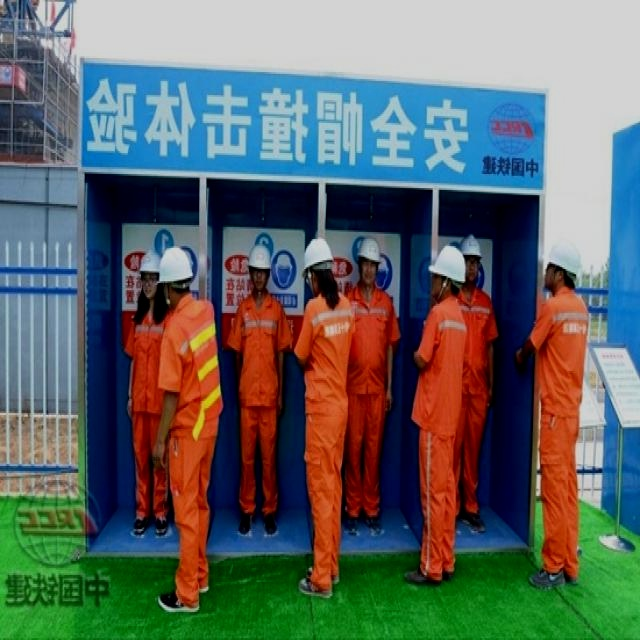Con_Casco: (428, 244, 466, 293), (159, 248, 193, 300), (304, 239, 333, 296), (357, 235, 379, 286), (249, 244, 270, 293)
Con_Chaleco: (162, 304, 218, 440)
